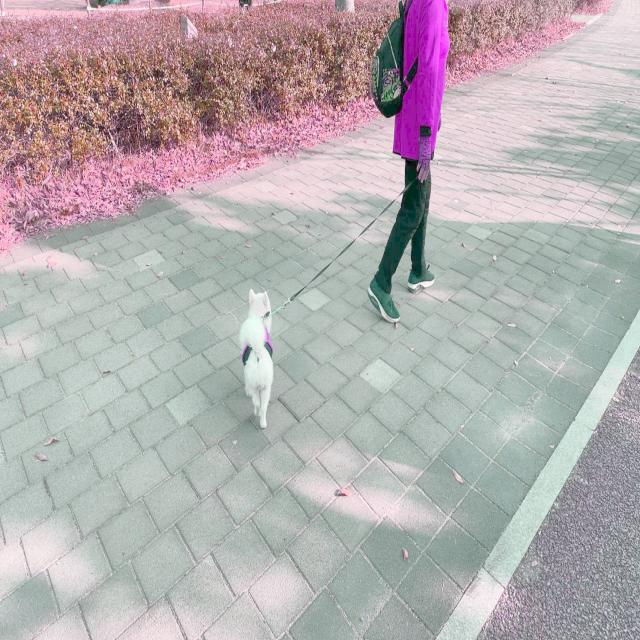Leashed_Dog: (238, 168, 419, 432)
